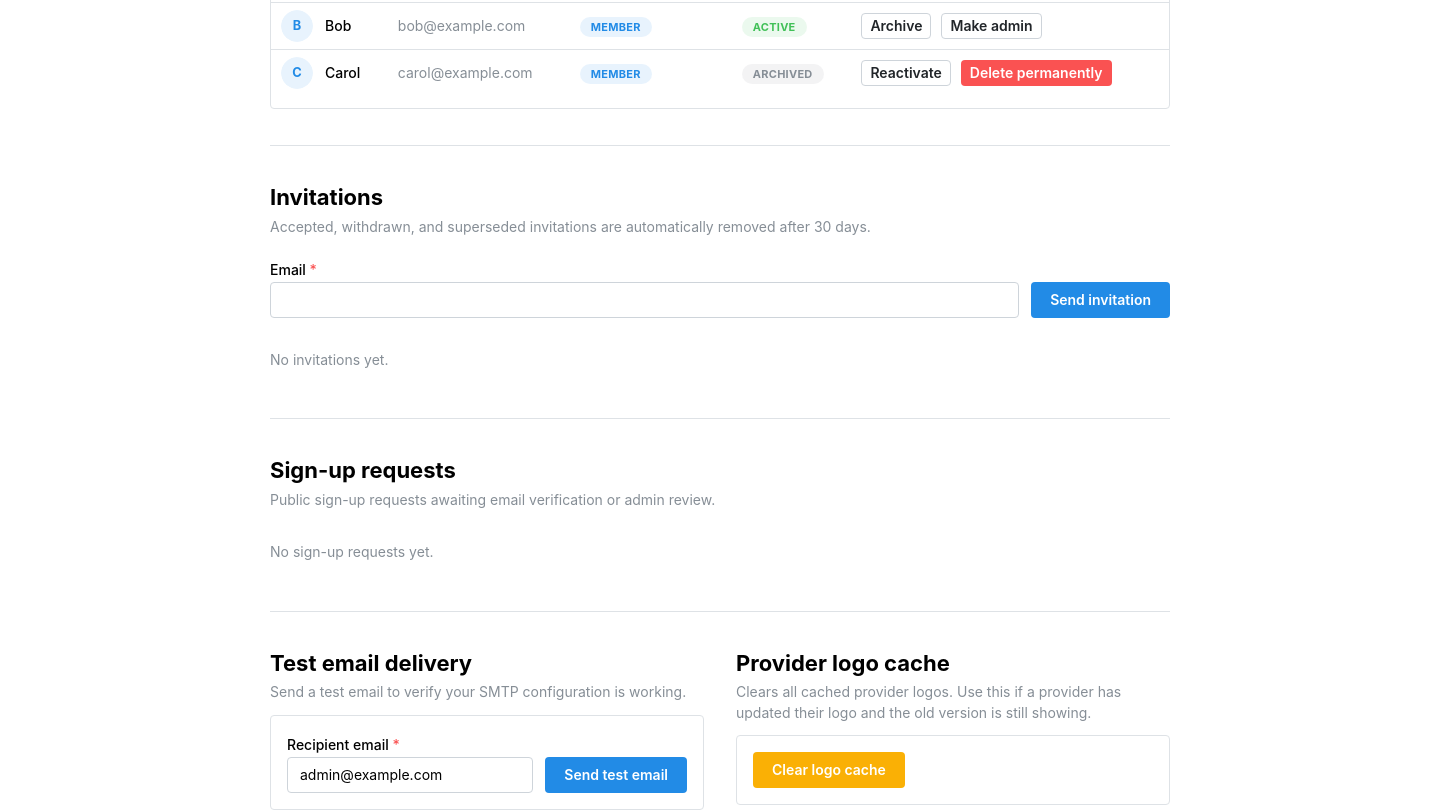
it: AccountsAdmin – TestEmailForm › shows an error toast when test email fails
(page scrolled)
Click the button "Send test email".
click(616, 774)  # box [545,756,687,792]
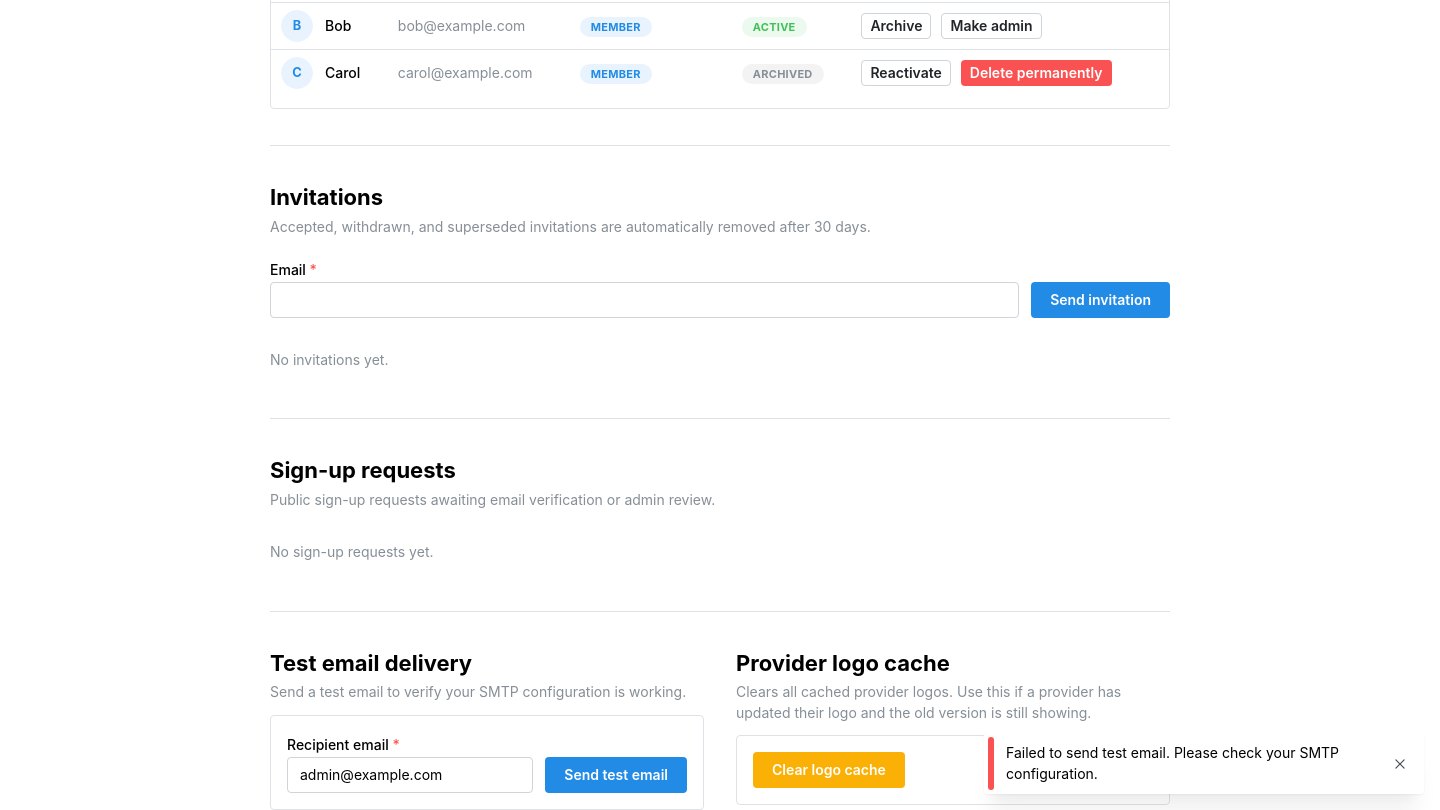
Now the text "Failed to send test email. Please check your SMTP configuration." is shown, box [1006,743,1376,784]
